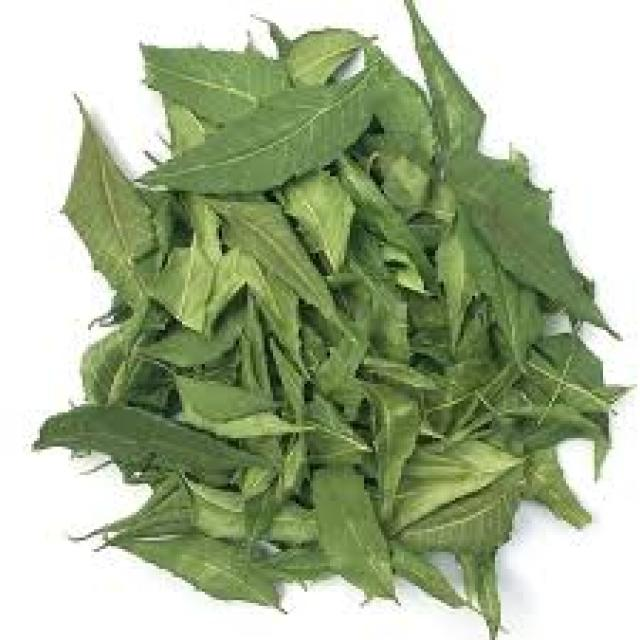Neem-Tree: (173, 117, 475, 558)
